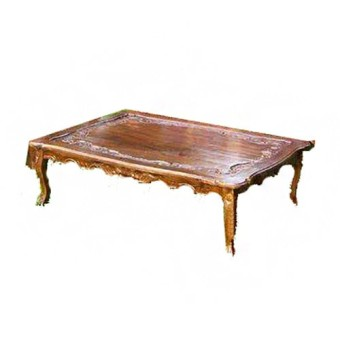Carving Table: (23, 105, 309, 263)
